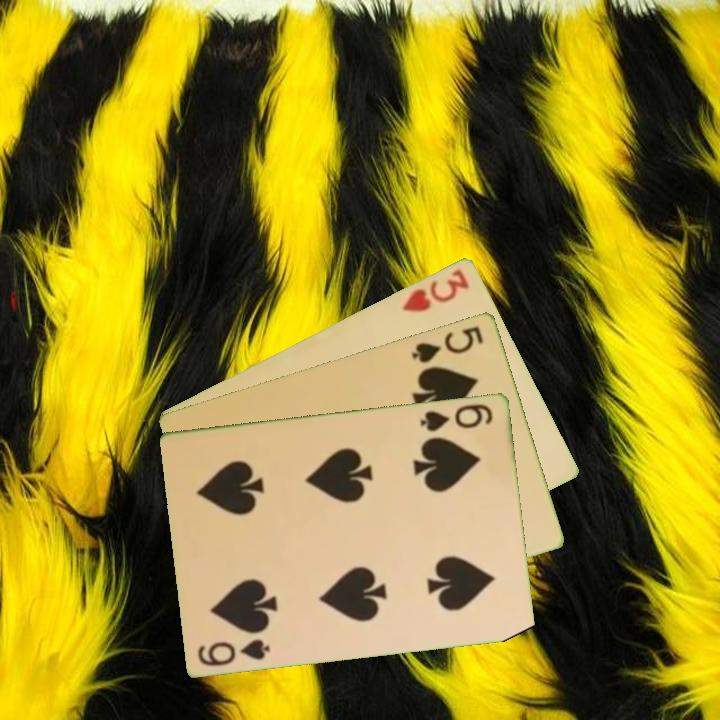3h: (398, 265, 473, 315)
5s: (408, 322, 487, 366)
6s: (194, 635, 274, 669), (417, 400, 496, 434)
